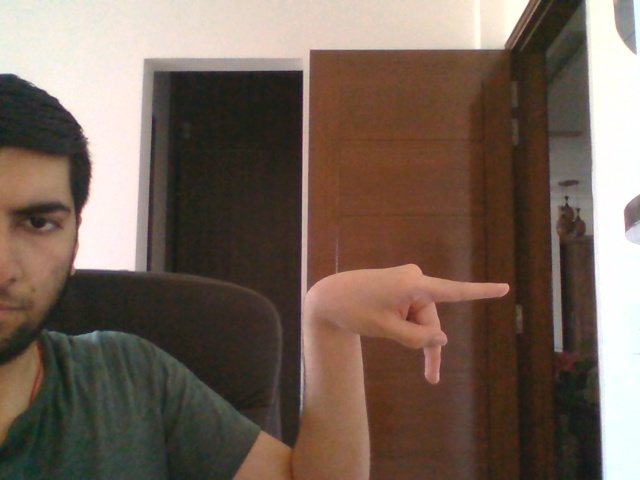LetterP: (301, 262, 511, 387)
